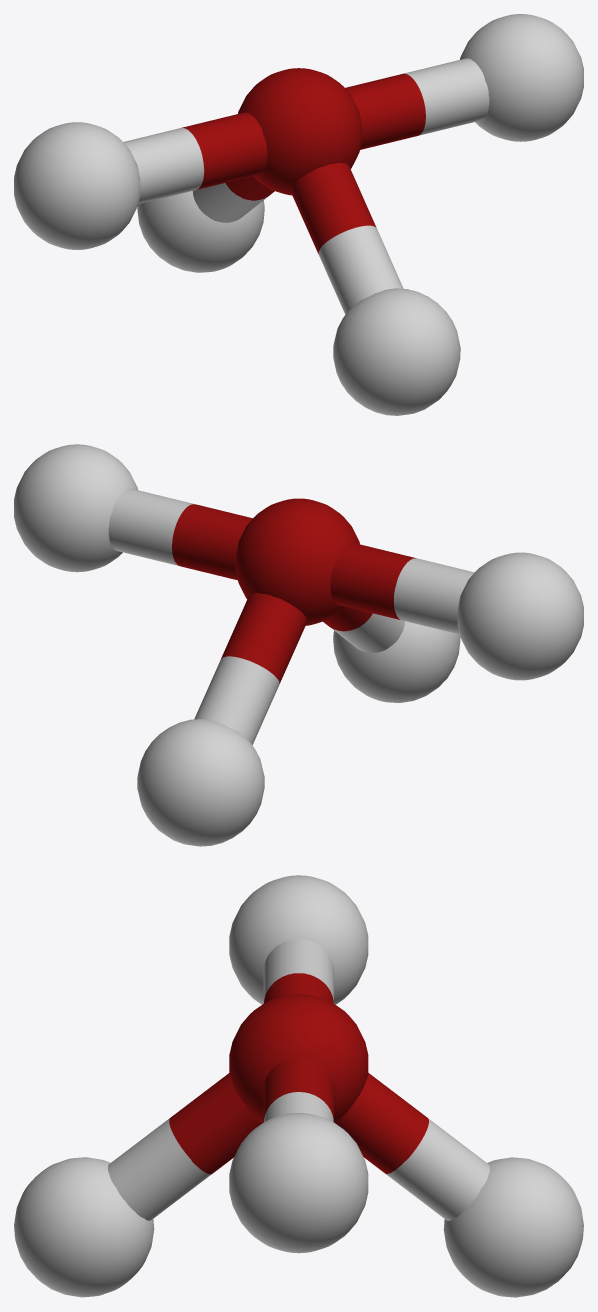
The model's file is sulfurTetraExternal.dae.
3 renders of one model, top to bottom at view 1: azimuth 30°, elevation 25°; view 2: azimuth 150°, elevation 25°; view 3: azimuth 270°, elevation 25°, orthographic. The views are drawn at different scales.
Visible parts, largest first — view 1: Sphere_1_3, Sphere_1, Sphere_1_4, Sphere, Sphere_1_2, Cylinder_2, Cylinder_2_4, Cylinder_2_5, Cylinder_1, Cylinder, Cylinder_2_3, Cylinder_2_2 (+1 smaller); view 2: Sphere_1_3, Sphere_1_2, Sphere_1_4, Sphere, Sphere_1, Cylinder_3, Cylinder_2_2, Cylinder_2_5, Cylinder_1, Cylinder, Cylinder_2_3, Cylinder_2 (+1 smaller); view 3: Sphere_1_4, Sphere_1, Sphere_1_2, Sphere_1_3, Sphere, Cylinder_2_2, Cylinder_2, Cylinder_3, Cylinder_2_4, Cylinder_2_3, Cylinder, Cylinder_1 (+1 smaller).
Boxes of the visible parts, bbox=[...] form: Sphere_1_3: bbox=[14, 122, 140, 249]; Sphere_1: bbox=[333, 288, 460, 415]; Sphere_1_4: bbox=[459, 14, 583, 141]; Sphere: bbox=[238, 68, 362, 195]; Sphere_1_2: bbox=[137, 191, 264, 272]; Cylinder_2: bbox=[318, 225, 403, 314]; Cylinder_2_4: bbox=[290, 163, 376, 253]; Cylinder_2_5: bbox=[404, 58, 489, 135]; Cylinder_1: bbox=[181, 112, 267, 189]; Cylinder: bbox=[345, 73, 425, 149]; Cylinder_2_3: bbox=[123, 128, 204, 203]; Cylinder_2_2: bbox=[193, 183, 267, 222]; Sphere_1_3: bbox=[457, 552, 583, 680]; Sphere_1_2: bbox=[137, 719, 264, 846]; Sphere_1_4: bbox=[14, 444, 137, 572]; Sphere: bbox=[235, 498, 359, 625]; Sphere_1: bbox=[333, 621, 460, 702]; Cylinder_3: bbox=[221, 593, 306, 683]; Cylinder_2_2: bbox=[194, 656, 279, 744]; Cylinder_2_5: bbox=[108, 488, 194, 565]; Cylinder_1: bbox=[330, 543, 415, 619]; Cylinder: bbox=[172, 504, 252, 580]; Cylinder_2_3: bbox=[394, 558, 474, 634]; Cylinder_2: bbox=[331, 613, 404, 652]; Sphere_1_4: bbox=[229, 1113, 368, 1253]; Sphere_1: bbox=[14, 1157, 154, 1297]; Sphere_1_2: bbox=[443, 1157, 583, 1297]; Sphere_1_3: bbox=[229, 875, 368, 1004]; Sphere: bbox=[229, 994, 368, 1123]; Cylinder_2_2: bbox=[385, 1118, 489, 1220]; Cylinder_2: bbox=[108, 1118, 211, 1220]; Cylinder_3: bbox=[335, 1073, 428, 1173]; Cylinder_2_4: bbox=[169, 1073, 262, 1174]; Cylinder_2_3: bbox=[263, 939, 333, 1003]; Cylinder: bbox=[263, 1058, 333, 1122]; Cylinder_1: bbox=[264, 973, 333, 1003].
Bounding box in the file's own units: 1000 × 456 × 812.
